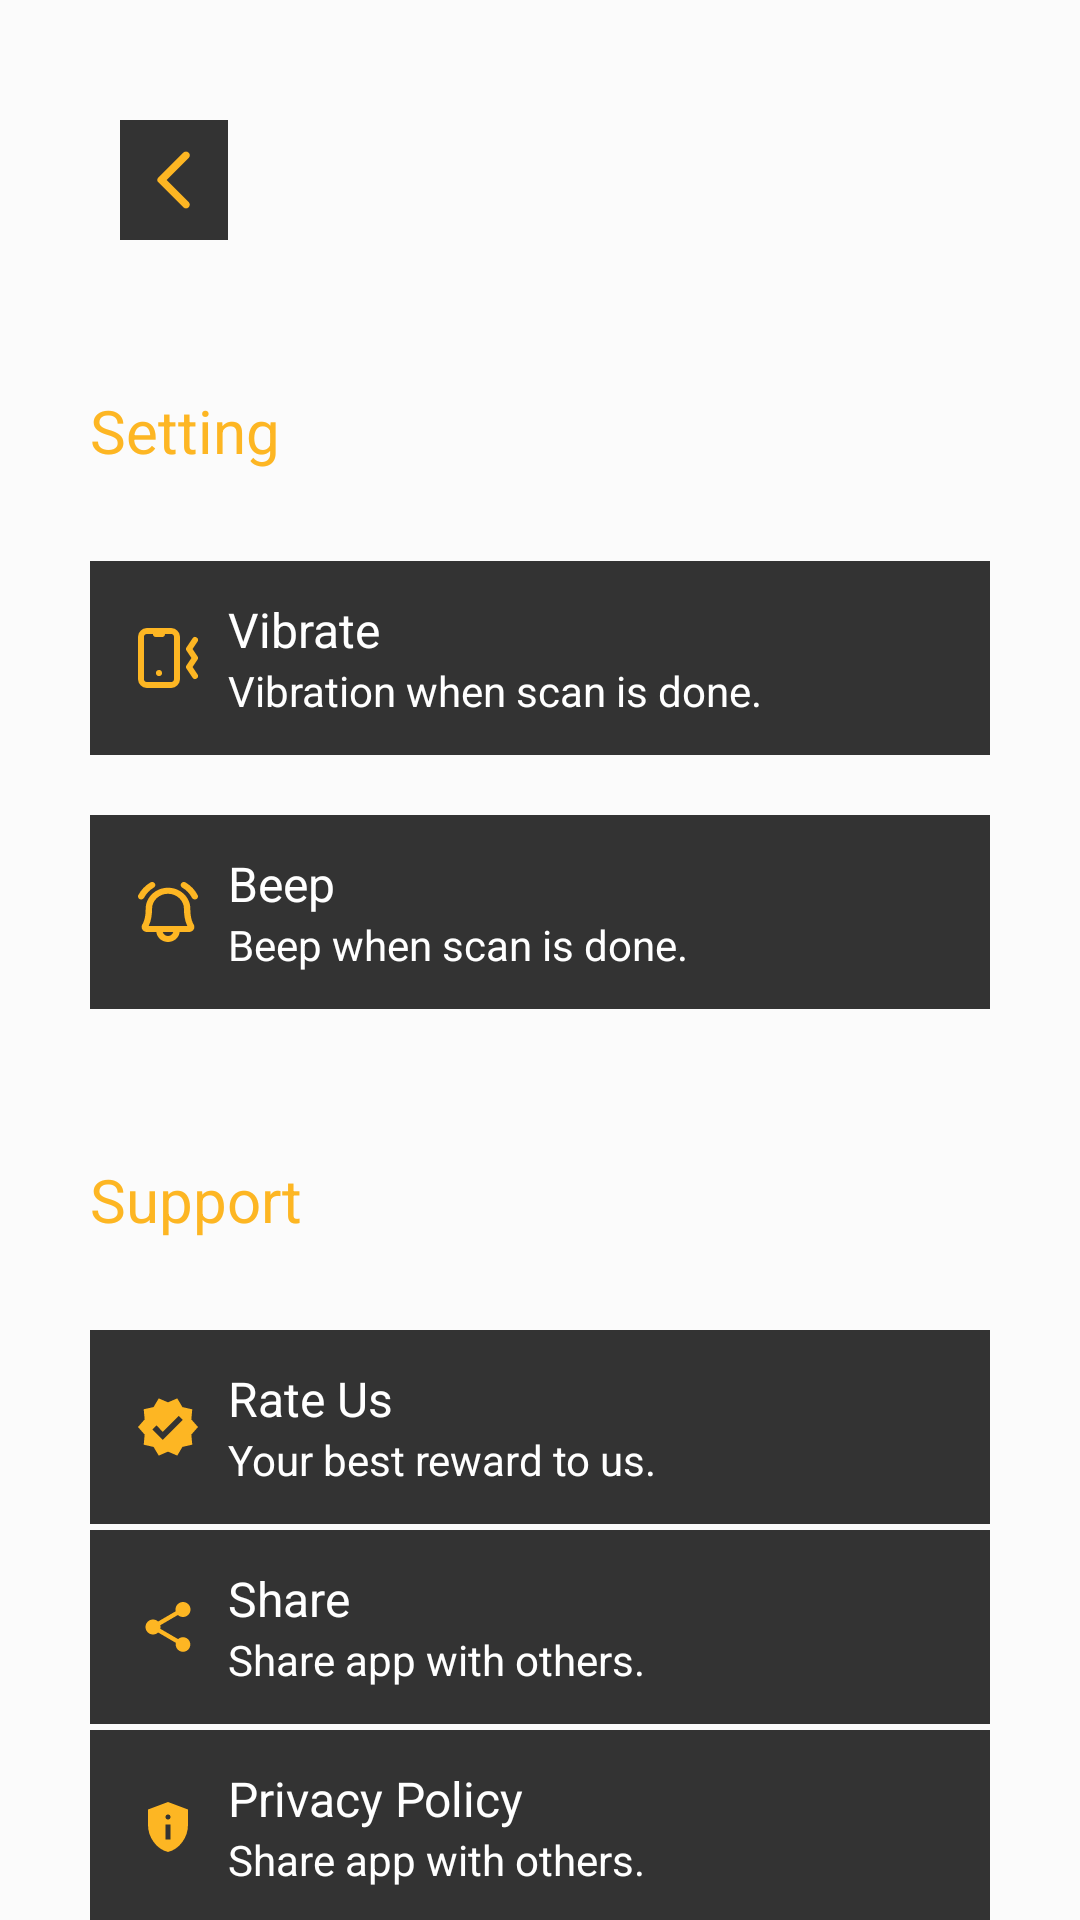

Named icons in this screenshot (1080 x 1920) and their bounding boxes, (x1, y1, x2, y2):
back: (120, 120, 228, 240)
